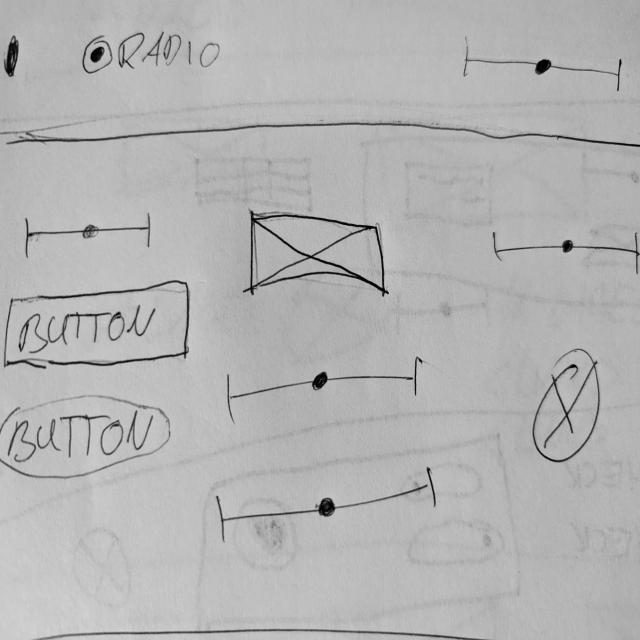button: (0, 276, 196, 374), (0, 392, 174, 482)
image: (245, 204, 388, 300), (527, 353, 606, 468)
radio: (80, 30, 224, 78)
slider: (212, 463, 440, 549), (223, 352, 424, 419), (458, 40, 626, 95), (489, 226, 640, 272), (21, 210, 156, 259)
